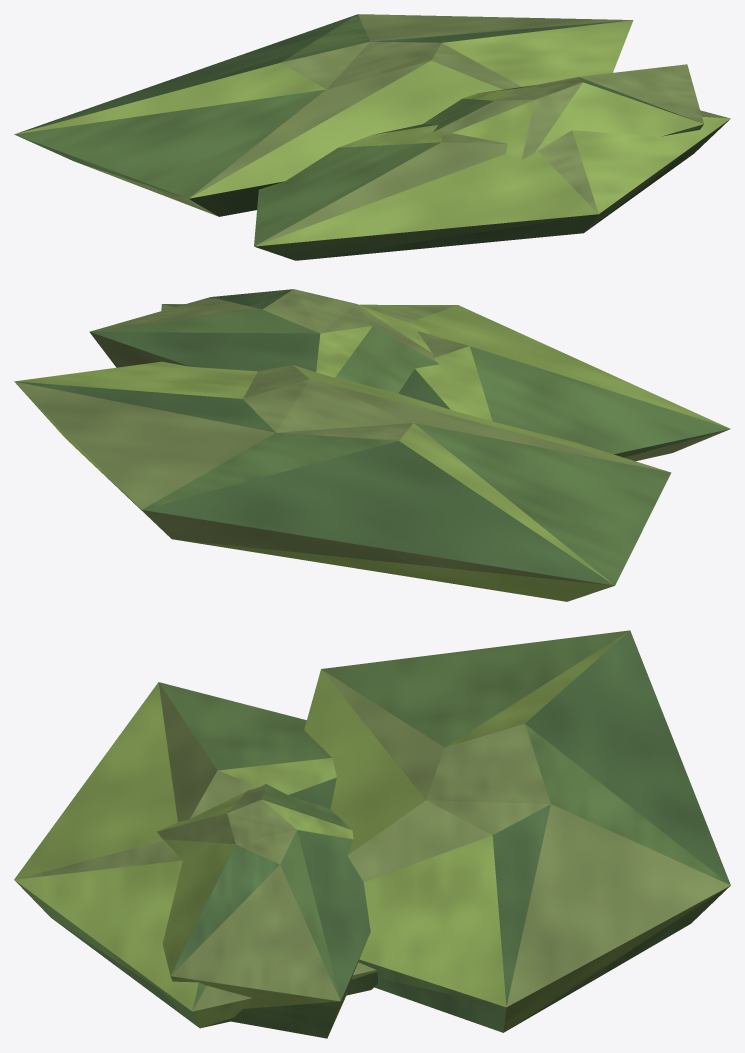
File: moss_patch_03.fbx
3 renders of one model, top to bottom at view 1: azimuth 30°, elevation 25°; view 2: azimuth 150°, elevation 25°; view 3: azimuth 270°, elevation 25°, orthographic. The views are drawn at different scales.
Parts seen in each view (by area): view 1: moss_patch_03; view 2: moss_patch_03; view 3: moss_patch_03.
Boxes of the visible parts, x1,y1,x2,y2 form: moss_patch_03: (14,14,730,260); moss_patch_03: (14,289,730,601); moss_patch_03: (14,630,730,1038).
Bounding box in the file's own units: 140 × 20 × 110.
Materials: 1 (1 with a texture image).
